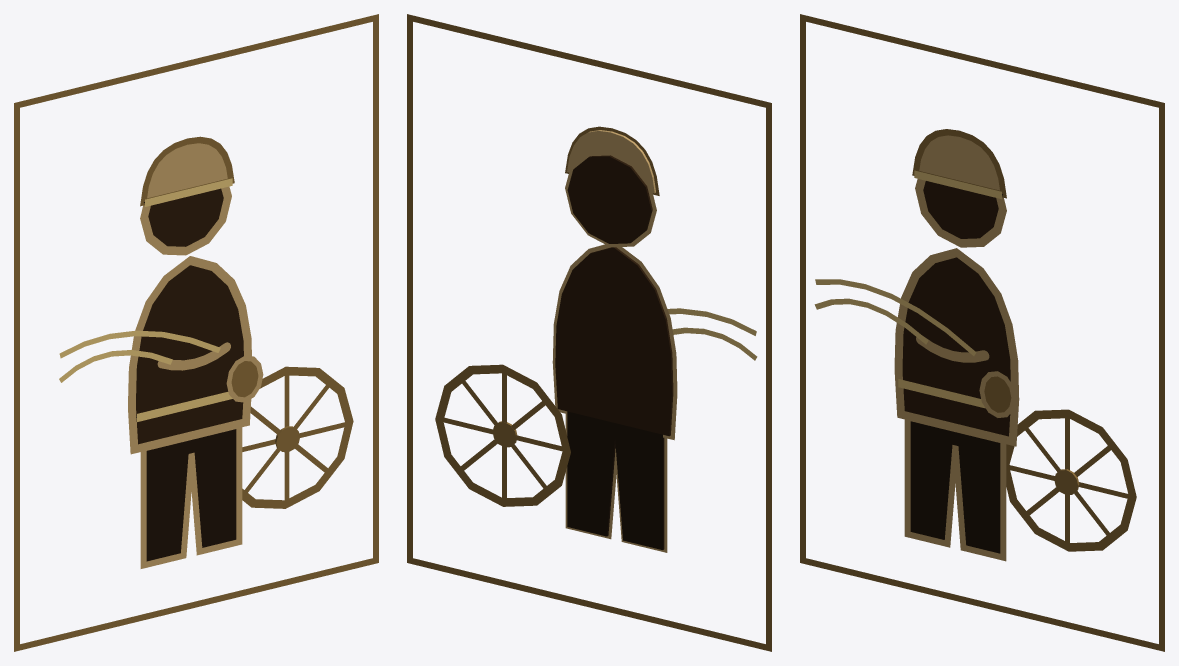
Rendered from npc-vozchik.glb.
3 views of the same model, side by side, from view 1: azimuth 30°, elevation 25°; view 2: azimuth 150°, elevation 25°; view 3: azimuth 330°, elevation 25° (orthographic).
Visible parts, largest first — view 1: npc-vozchik; view 2: npc-vozchik; view 3: npc-vozchik.
Part boxes in pixels (x1,y1,x2,y2): npc-vozchik: [14, 14, 378, 651]; npc-vozchik: [407, 14, 771, 651]; npc-vozchik: [800, 14, 1164, 651].
Size of the model in its own units: 1.14 by 1.64 by 0.09.
